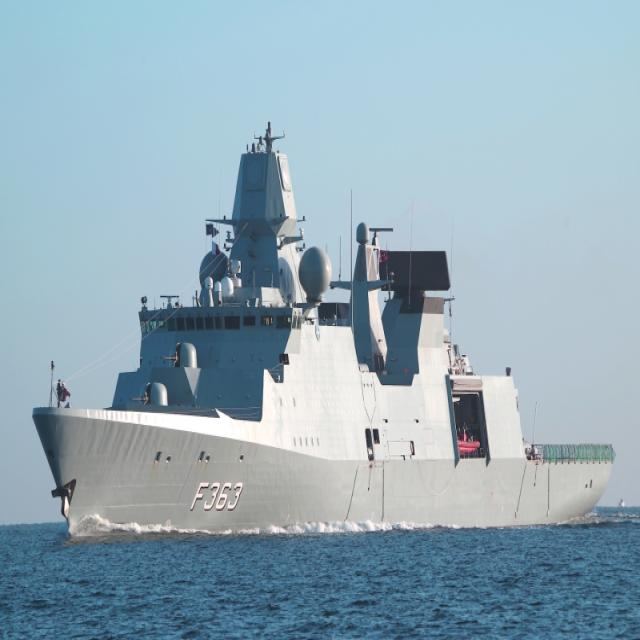Fragata: (32, 105, 622, 544)
